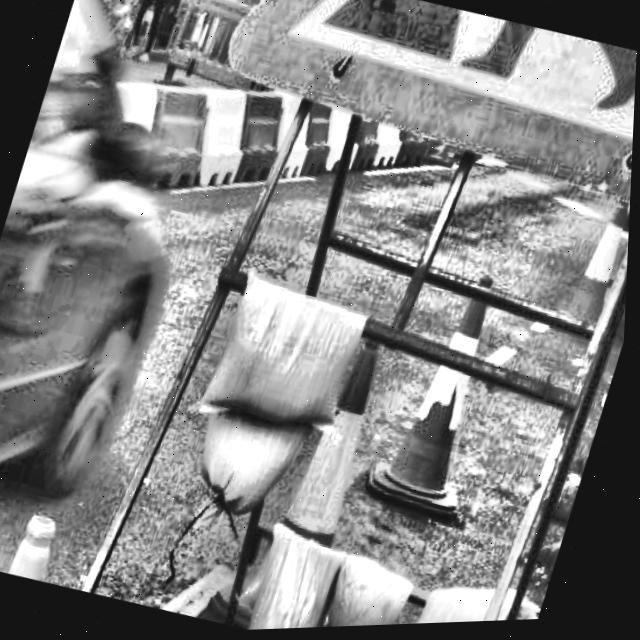light_vehicle: (0, 0, 286, 598)
